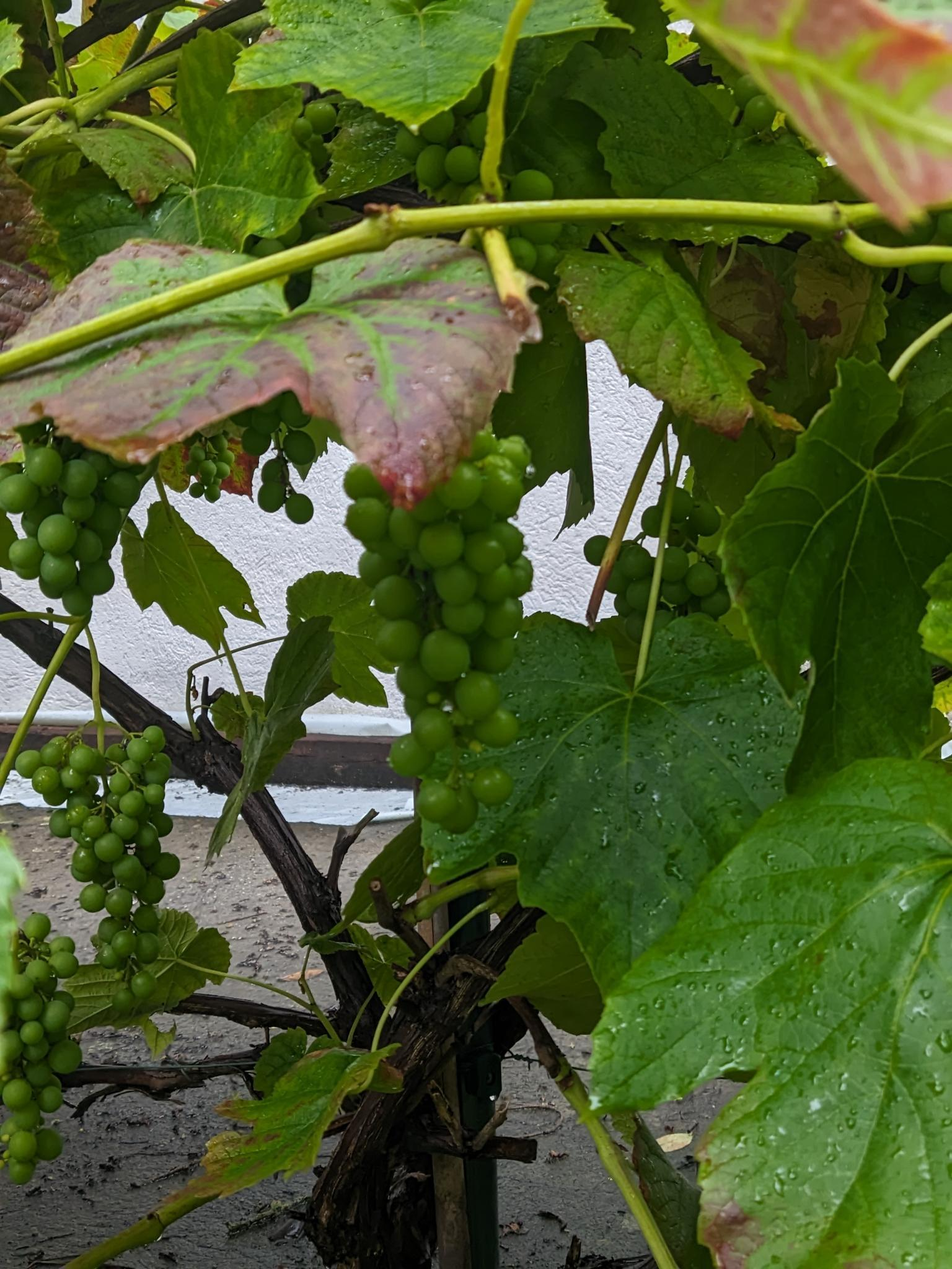Grape Unripe: (339, 431, 527, 833), (16, 726, 181, 999), (392, 81, 567, 275), (231, 206, 331, 524), (3, 426, 141, 620), (586, 486, 731, 649), (0, 912, 82, 1189), (189, 434, 233, 504), (295, 102, 339, 165)
